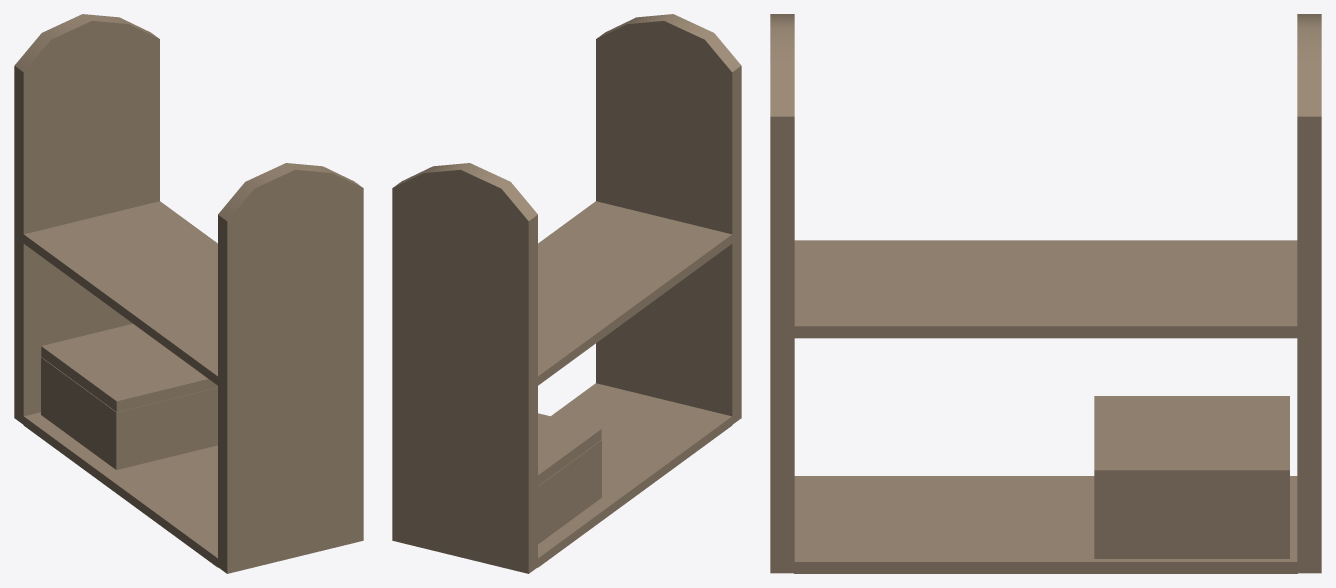
Rendered from bookshelf1.fbx.
3 views of the same model, side by side, from view 1: azimuth 30°, elevation 25°; view 2: azimuth 150°, elevation 25°; view 3: azimuth 270°, elevation 25° (orthographic). The views are drawn at different scales.
Visible parts, largest first — view 1: bookshelf1, box, box_up; view 2: bookshelf1, box, box_up; view 3: bookshelf1, box_up, box.
Boxes of the visible parts, x1,y1,x2,y2 form: bookshelf1: [14, 14, 363, 573]; box: [41, 357, 217, 469]; box_up: [41, 324, 217, 411]; bookshelf1: [392, 14, 741, 573]; box: [538, 440, 601, 543]; box_up: [538, 413, 601, 485]; bookshelf1: [770, 14, 1321, 573]; box_up: [1094, 396, 1289, 484]; box: [1094, 484, 1289, 558].
Bounding box in the file's own units: 49.11 × 134 × 133.
